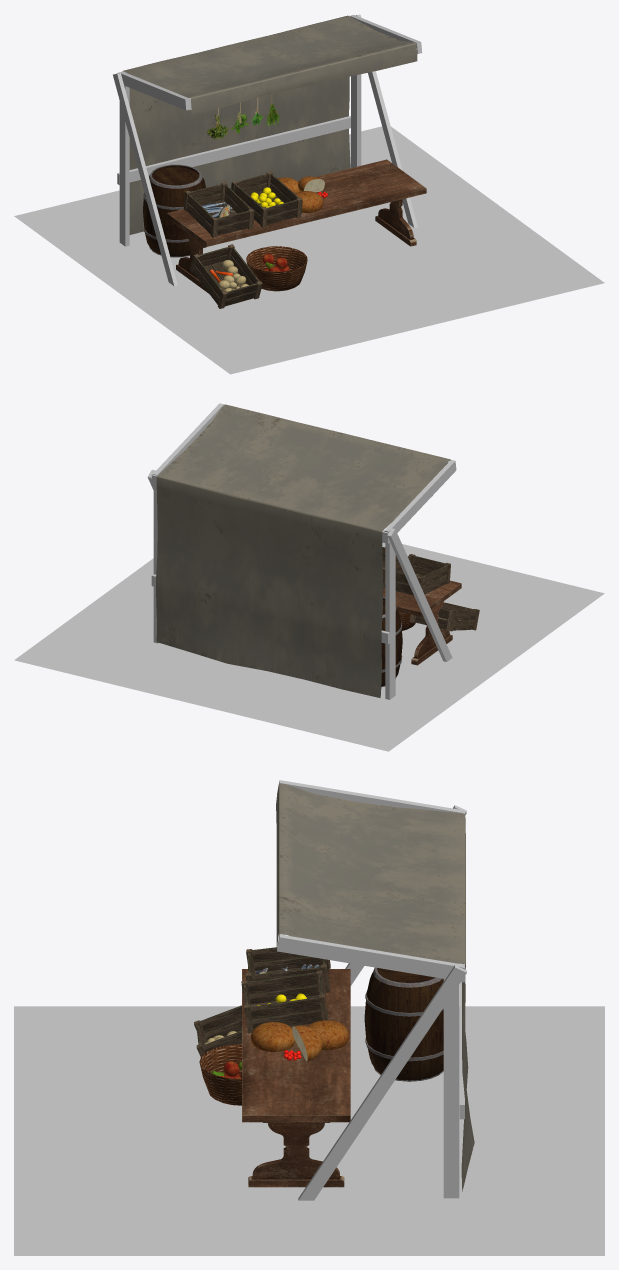
3 renders of one model, top to bottom at view 1: azimuth 30°, elevation 25°; view 2: azimuth 150°, elevation 25°; view 3: azimuth 270°, elevation 25°, orthographic. The views are drawn at different scales.
Parts seen in each view (by area): view 1: ground, Plane, stand, table, barrel, box.002, box, box.001, basket.001, herbs; view 2: Plane, ground, stand, table, box, box.002, barrel; view 3: ground, Plane, stand, table, barrel, box.001, box, basket.001, box.002, bread full, bread full.001, bread half.
Part boxes in pixels (bbox=[...]): ground: bbox=[14, 126, 604, 374]; Plane: bbox=[122, 15, 417, 234]; stand: bbox=[113, 14, 422, 286]; table: bbox=[167, 159, 426, 293]; barrel: bbox=[143, 164, 205, 257]; box.002: bbox=[189, 244, 262, 308]; box: bbox=[183, 182, 254, 237]; box.001: bbox=[231, 171, 302, 227]; basket.001: bbox=[246, 246, 307, 291]; herbs: bbox=[207, 93, 279, 139]; Plane: bbox=[156, 404, 450, 697]; ground: bbox=[14, 542, 604, 751]; stand: bbox=[147, 403, 456, 699]; table: bbox=[383, 580, 461, 665]; box: bbox=[383, 554, 450, 595]; box.002: bbox=[409, 602, 479, 631]; barrel: bbox=[381, 597, 402, 687]; ground: bbox=[14, 1006, 604, 1255]; Plane: bbox=[276, 783, 474, 1191]; stand: bbox=[277, 780, 466, 1200]; table: bbox=[242, 969, 350, 1187]; barrel: bbox=[364, 967, 443, 1081]; box.001: bbox=[241, 970, 328, 1033]; box: bbox=[245, 947, 330, 992]; basket.001: bbox=[199, 1044, 241, 1105]; box.002: bbox=[194, 1005, 241, 1057]; bread full: bbox=[250, 1022, 295, 1051]; bread full.001: bbox=[308, 1020, 348, 1049]; bread half: bbox=[292, 1025, 322, 1061].
Size of the model in its own units: 1744 by 855 by 1744.
